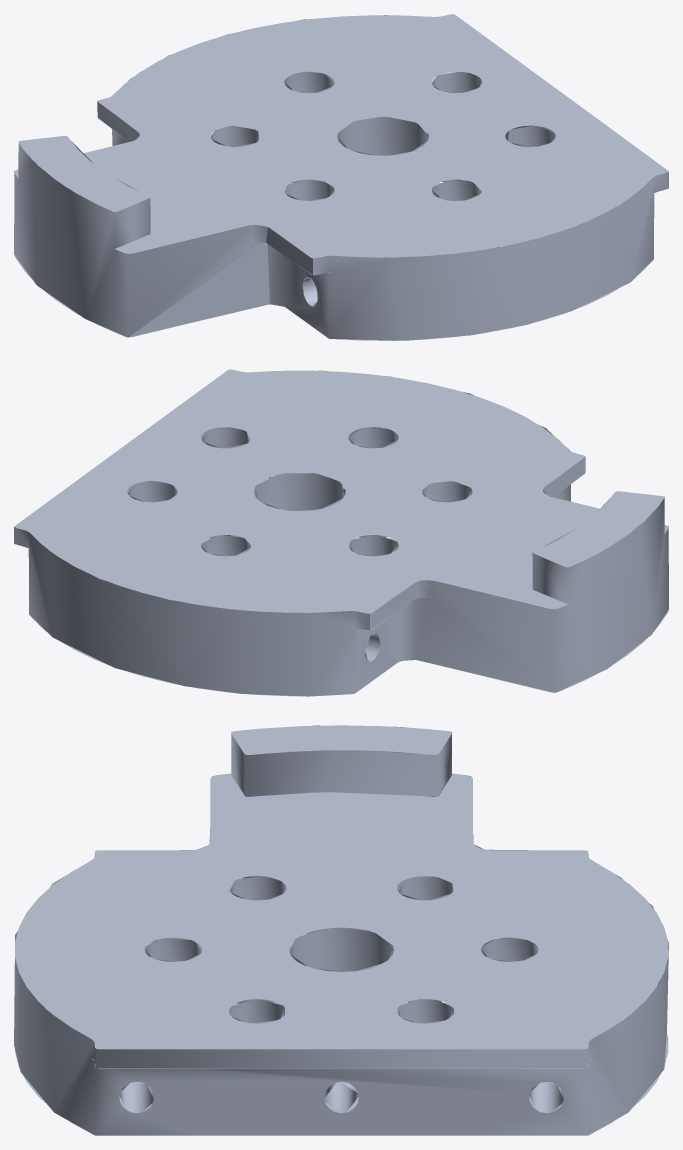
3 views of the same model, one above another, from view 1: azimuth 30°, elevation 25°; view 2: azimuth 150°, elevation 25°; view 3: azimuth 270°, elevation 25° (orthographic). The views are drawn at different scales.
Visible parts, largest first — view 1: link1_02; view 2: link1_02; view 3: link1_02.
Part boxes in pixels (x1,y1,x2,y2): link1_02: (14,14,668,340); link1_02: (14,369,668,696); link1_02: (14,725,668,1135).
Size of the model in its own units: 0.0635 by 0.0144 by 0.0623.
